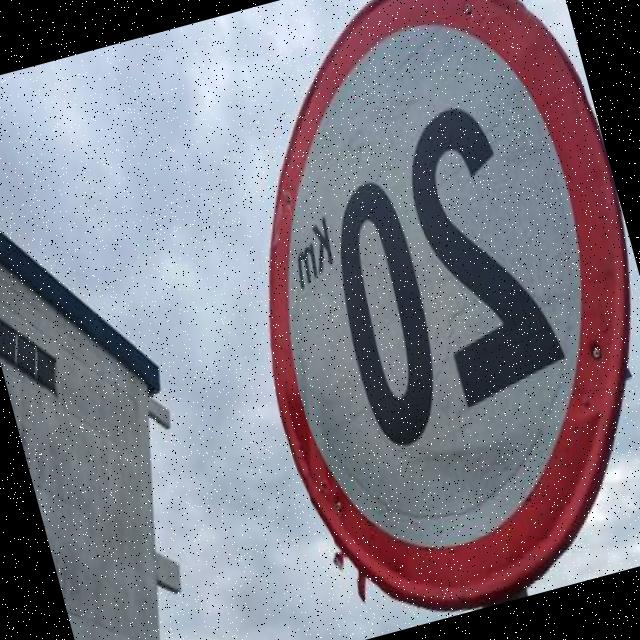speed_limit_20: (159, 0, 640, 640)
